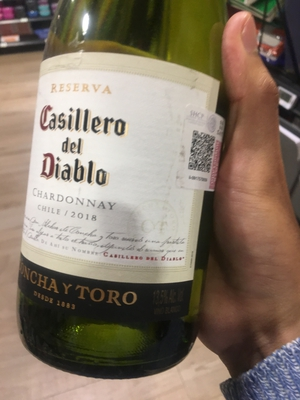casillero del diablo chardonnay: (15, 30, 233, 374)
